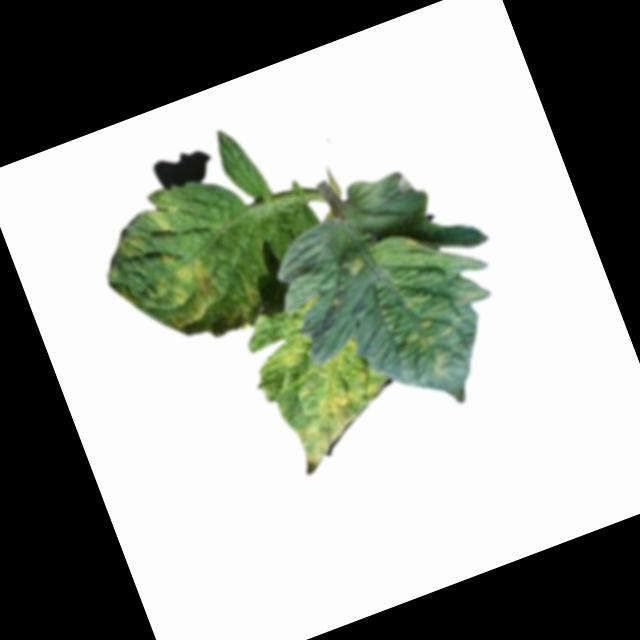Leaf_Mold: (350, 210, 516, 395), (257, 317, 396, 476), (139, 251, 224, 335), (145, 204, 176, 242)
